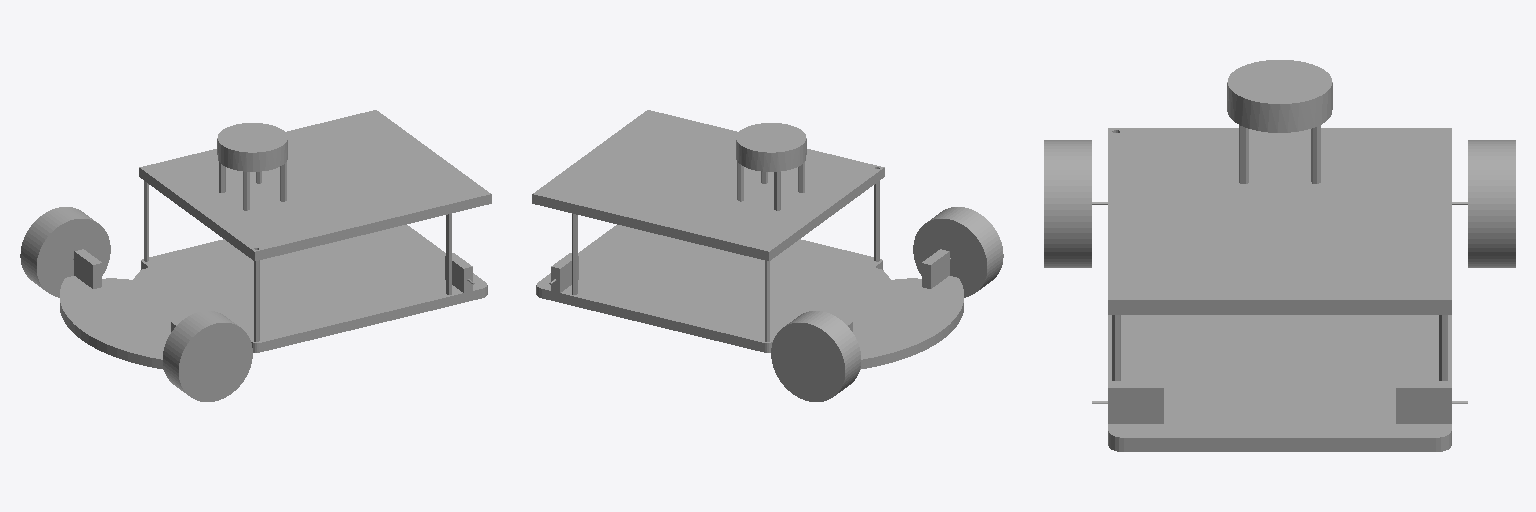
The robot description file, URDF, robot "4wheel_output":
<?xml version="1.0" ?>
<!-- =================================================================================== -->
<!-- |    This document was autogenerated by xacro from urdf/4wheel_output.xacro        | -->
<!-- |    EDITING THIS FILE BY HAND IS NOT RECOMMENDED                                 | -->
<!-- =================================================================================== -->
<robot xmlns:xacro="http://www.ros.org/wiki/xacro" name="4wheel_output">
  <material name="silver">
    <color rgba="0.700 0.700 0.700 1.000"/>
  </material>
  <transmission name="Revolute 1_tran">
    <type>transmission_interface/SimpleTransmission</type>
    <joint name="Revolute 1">
      <hardwareInterface>hardware_interface/EffortJointInterface</hardwareInterface>
    </joint>
    <actuator name="Revolute 1_actr">
      <hardwareInterface>hardware_interface/EffortJointInterface</hardwareInterface>
      <mechanicalReduction>1</mechanicalReduction>
    </actuator>
  </transmission>
  <transmission name="Revolute 2_tran">
    <type>transmission_interface/SimpleTransmission</type>
    <joint name="Revolute 2">
      <hardwareInterface>hardware_interface/EffortJointInterface</hardwareInterface>
    </joint>
    <actuator name="Revolute 2_actr">
      <hardwareInterface>hardware_interface/EffortJointInterface</hardwareInterface>
      <mechanicalReduction>1</mechanicalReduction>
    </actuator>
  </transmission>
  <transmission name="Revolute 6_tran">
    <type>transmission_interface/SimpleTransmission</type>
    <joint name="Revolute 6">
      <hardwareInterface>hardware_interface/EffortJointInterface</hardwareInterface>
    </joint>
    <actuator name="Revolute 6_actr">
      <hardwareInterface>hardware_interface/EffortJointInterface</hardwareInterface>
      <mechanicalReduction>1</mechanicalReduction>
    </actuator>
  </transmission>
  <transmission name="Revolute 7_tran">
    <type>transmission_interface/SimpleTransmission</type>
    <joint name="Revolute 7">
      <hardwareInterface>hardware_interface/EffortJointInterface</hardwareInterface>
    </joint>
    <actuator name="Revolute 7_actr">
      <hardwareInterface>hardware_interface/EffortJointInterface</hardwareInterface>
      <mechanicalReduction>1</mechanicalReduction>
    </actuator>
  </transmission>
  <gazebo>
    <plugin name="control" filename="libgazebo_ros_control.so"/>
  </gazebo>
  <gazebo reference="base_link">
    <material>Gazebo/Silver</material>
    <mu1>0.2</mu1>
    <mu2>0.2</mu2>
    <selfCollide>true</selfCollide>
    <gravity>true</gravity>
  </gazebo>
  <gazebo reference="back_left_1">
    <material>Gazebo/Silver</material>
    <mu1>0.2</mu1>
    <mu2>0.2</mu2>
    <selfCollide>true</selfCollide>
  </gazebo>
  <gazebo reference="back_right_1">
    <material>Gazebo/Silver</material>
    <mu1>0.2</mu1>
    <mu2>0.2</mu2>
    <selfCollide>true</selfCollide>
  </gazebo>
  <gazebo reference="lidar_v1_1">
    <material>Gazebo/Silver</material>
    <mu1>0.2</mu1>
    <mu2>0.2</mu2>
    <selfCollide>true</selfCollide>
  </gazebo>
  <gazebo reference="front_right_1">
    <material>Gazebo/Silver</material>
    <mu1>0.2</mu1>
    <mu2>0.2</mu2>
    <selfCollide>true</selfCollide>
  </gazebo>
  <gazebo reference="front_left_1">
    <material>Gazebo/Silver</material>
    <mu1>0.2</mu1>
    <mu2>0.2</mu2>
    <selfCollide>true</selfCollide>
  </gazebo>
  <link name="base_link">
    <inertial>
      <origin xyz="-0.03231720679873715 9.242377183249019e-06 0.050011490590469526" rpy="0 0 0"/>
      <mass value="11.13582814957309"/>
      <inertia ixx="0.069638" iyy="0.133325" izz="0.14446" ixy="1.3e-05" iyz="-4e-06" ixz="-0.010205"/>
    </inertial>
    <visual>
      <origin xyz="0 0 0" rpy="0 0 0"/>
      <geometry>
        <mesh filename="package://4wheel_output_description/meshes/base_link.stl" scale="0.001 0.001 0.001"/>
      </geometry>
      <material name="silver"/>
    </visual>
    <collision>
      <origin xyz="0 0 0" rpy="0 0 0"/>
      <geometry>
        <mesh filename="package://4wheel_output_description/meshes/base_link.stl" scale="0.001 0.001 0.001"/>
      </geometry>
    </collision>
  </link>
  <link name="back_left_1">
    <inertial>
      <origin xyz="-1.3877787807814457e-17 -0.015000000000000041 0.0" rpy="0 0 0"/>
      <mass value="1.1837521118726337"/>
      <inertia ixx="0.000562" iyy="0.000947" izz="0.000562" ixy="-0.0" iyz="-0.0" ixz="-0.0"/>
    </inertial>
    <visual>
      <origin xyz="-0.1025 0.1175 -0.0225" rpy="0 0 0"/>
      <geometry>
        <mesh filename="package://4wheel_output_description/meshes/back_left_1.stl" scale="0.001 0.001 0.001"/>
      </geometry>
      <material name="silver"/>
    </visual>
    <collision>
      <origin xyz="-0.1025 0.1175 -0.0225" rpy="0 0 0"/>
      <geometry>
        <mesh filename="package://4wheel_output_description/meshes/back_left_1.stl" scale="0.001 0.001 0.001"/>
      </geometry>
    </collision>
  </link>
  <link name="back_right_1">
    <inertial>
      <origin xyz="-2.7755575615628914e-17 0.014999999999999958 0.0" rpy="0 0 0"/>
      <mass value="1.1837521118726337"/>
      <inertia ixx="0.000562" iyy="0.000947" izz="0.000562" ixy="0.0" iyz="-0.0" ixz="0.0"/>
    </inertial>
    <visual>
      <origin xyz="-0.1025 -0.1175 -0.0225" rpy="0 0 0"/>
      <geometry>
        <mesh filename="package://4wheel_output_description/meshes/back_right_1.stl" scale="0.001 0.001 0.001"/>
      </geometry>
      <material name="silver"/>
    </visual>
    <collision>
      <origin xyz="-0.1025 -0.1175 -0.0225" rpy="0 0 0"/>
      <geometry>
        <mesh filename="package://4wheel_output_description/meshes/back_right_1.stl" scale="0.001 0.001 0.001"/>
      </geometry>
    </collision>
  </link>
  <link name="lidar_v1_1">
    <inertial>
      <origin xyz="-1.0058283789193823e-09 0.0 0.009858499938735416" rpy="0 0 0"/>
      <mass value="0.5286905929941373"/>
      <inertia ixx="0.000159" iyy="0.000159" izz="0.000284" ixy="-0.0" iyz="-0.0" ixz="0.0"/>
    </inertial>
    <visual>
      <origin xyz="0.0675 -0.0 -0.165" rpy="0 0 0"/>
      <geometry>
        <mesh filename="package://4wheel_output_description/meshes/lidar_v1_1.stl" scale="0.001 0.001 0.001"/>
      </geometry>
      <material name="silver"/>
    </visual>
    <collision>
      <origin xyz="0.0675 -0.0 -0.165" rpy="0 0 0"/>
      <geometry>
        <mesh filename="package://4wheel_output_description/meshes/lidar_v1_1.stl" scale="0.001 0.001 0.001"/>
      </geometry>
    </collision>
  </link>
  <link name="front_right_1">
    <inertial>
      <origin xyz="0.0 0.014999999999999958 0.0" rpy="0 0 0"/>
      <mass value="1.1837521118726337"/>
      <inertia ixx="0.000562" iyy="0.000947" izz="0.000562" ixy="0.0" iyz="-0.0" ixz="0.0"/>
    </inertial>
    <visual>
      <origin xyz="0.1925 -0.1175 -0.0225" rpy="0 0 0"/>
      <geometry>
        <mesh filename="package://4wheel_output_description/meshes/front_right_1.stl" scale="0.001 0.001 0.001"/>
      </geometry>
      <material name="silver"/>
    </visual>
    <collision>
      <origin xyz="0.1925 -0.1175 -0.0225" rpy="0 0 0"/>
      <geometry>
        <mesh filename="package://4wheel_output_description/meshes/front_right_1.stl" scale="0.001 0.001 0.001"/>
      </geometry>
    </collision>
  </link>
  <link name="front_left_1">
    <inertial>
      <origin xyz="0.0 -0.015000000000000041 0.0" rpy="0 0 0"/>
      <mass value="1.1837521118726337"/>
      <inertia ixx="0.000562" iyy="0.000947" izz="0.000562" ixy="0.0" iyz="-0.0" ixz="-0.0"/>
    </inertial>
    <visual>
      <origin xyz="0.1925 0.1175 -0.0225" rpy="0 0 0"/>
      <geometry>
        <mesh filename="package://4wheel_output_description/meshes/front_left_1.stl" scale="0.001 0.001 0.001"/>
      </geometry>
      <material name="silver"/>
    </visual>
    <collision>
      <origin xyz="0.1925 0.1175 -0.0225" rpy="0 0 0"/>
      <geometry>
        <mesh filename="package://4wheel_output_description/meshes/front_left_1.stl" scale="0.001 0.001 0.001"/>
      </geometry>
    </collision>
  </link>
  <joint name="Revolute 1" type="continuous">
    <origin xyz="0.1025 -0.1175 0.0225" rpy="0 0 0"/>
    <parent link="base_link"/>
    <child link="back_left_1"/>
    <axis xyz="0.0 -1.0 -0.0"/>
  </joint>
  <joint name="Revolute 2" type="continuous">
    <origin xyz="0.1025 0.1175 0.0225" rpy="0 0 0"/>
    <parent link="base_link"/>
    <child link="back_right_1"/>
    <axis xyz="0.0 1.0 -0.0"/>
  </joint>
  <joint name="Rigid 3" type="fixed">
    <origin xyz="-0.0675 0.0 0.165" rpy="0 0 0"/>
    <parent link="base_link"/>
    <child link="lidar_v1_1"/>
  </joint>
  <joint name="Revolute 6" type="continuous">
    <origin xyz="-0.1925 0.1175 0.0225" rpy="0 0 0"/>
    <parent link="base_link"/>
    <child link="front_right_1"/>
    <axis xyz="0.0 1.0 -0.0"/>
  </joint>
  <joint name="Revolute 7" type="continuous">
    <origin xyz="-0.1925 -0.1175 0.0225" rpy="0 0 0"/>
    <parent link="base_link"/>
    <child link="front_left_1"/>
    <axis xyz="-0.0 1.0 0.0"/>
  </joint>
</robot>

--- What the picture shows (computed from the rendered views, not written in the file) ---
3 views of the same robot in one strip: view 1: azimuth 30°, elevation 25°; view 2: azimuth 150°, elevation 25°; view 3: azimuth 270°, elevation 25° (orthographic).
Model 4wheel_output with 6 links and 5 joints (4 continuous, 1 fixed), rooted at base_link, posed all joints at 0.
Visible links, largest first — view 1: base_link, front_left_1, front_right_1; view 2: base_link, front_right_1, front_left_1; view 3: base_link, front_right_1, front_left_1.
Link boxes in pixels (x1=…): base_link: x1=60, y1=110, x2=491, y2=369; front_left_1: x1=163, y1=311, x2=252, y2=401; front_right_1: x1=20, y1=207, x2=110, y2=297; base_link: x1=532, y1=110, x2=963, y2=369; front_right_1: x1=771, y1=311, x2=860, y2=401; front_left_1: x1=913, y1=207, x2=1003, y2=297; base_link: x1=1092, y1=60, x2=1467, y2=451; front_right_1: x1=1468, y1=140, x2=1515, y2=267; front_left_1: x1=1044, y1=140, x2=1091, y2=267.
Size in the robot's own frame: 0.3795 by 0.295 by 0.1825 metres.
Meshes: 6 distinct files referenced, 3 mesh visuals loaded (3 binary STL); not drawn: 3 (reference not matched to a file when rendering).